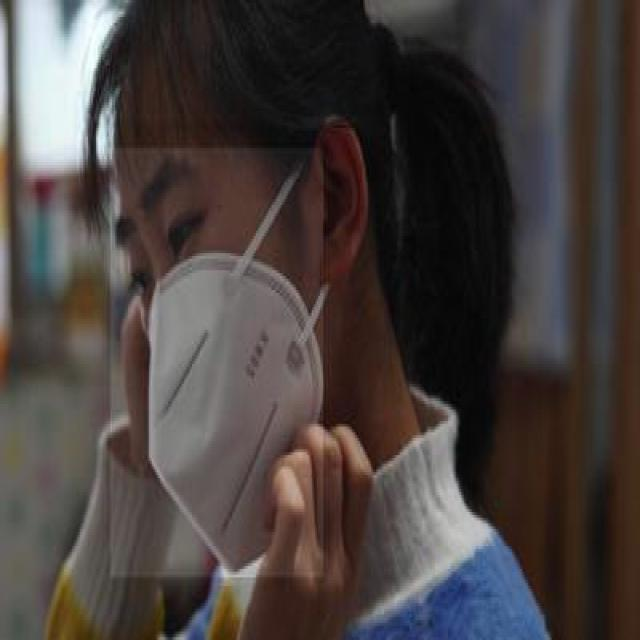face_mask: (110, 148, 325, 580)
hand_noglove: (257, 418, 370, 597)
head_nohelmet: (88, 0, 378, 125)
